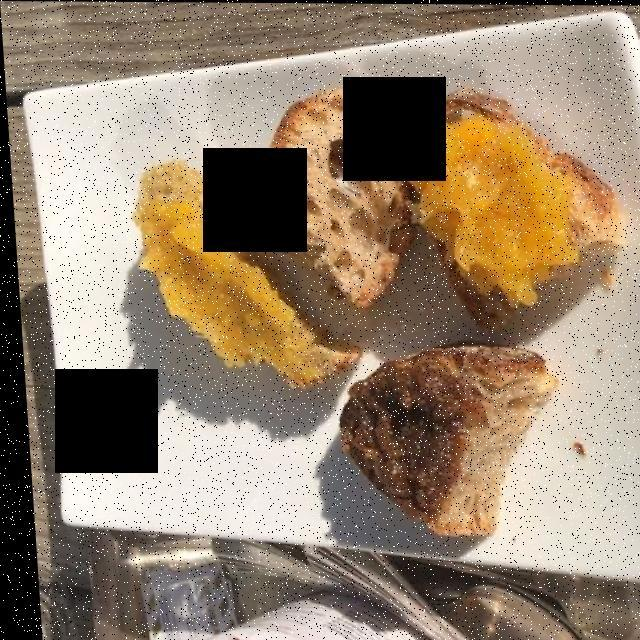bread: (148, 82, 629, 385), (334, 335, 537, 539)
jam: (138, 86, 587, 379)
